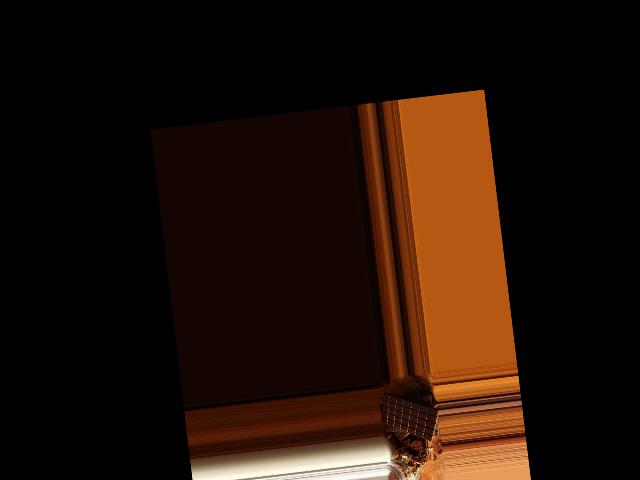chocolate: (380, 386, 442, 449)
